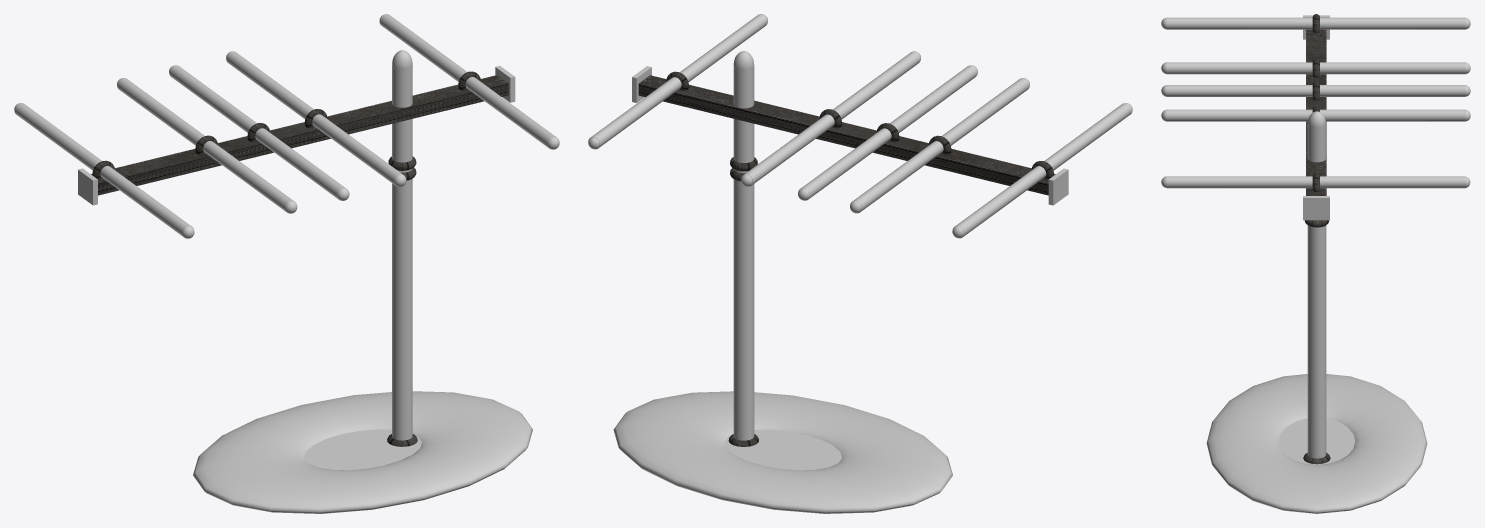
Rendered from antenna fbx.fbx.
3 views of the same model, side by side, from view 1: azimuth 30°, elevation 25°; view 2: azimuth 150°, elevation 25°; view 3: azimuth 270°, elevation 25° (orthographic). The views are drawn at different scales.
Visible parts, largest first — view 1: pTorus9, pCube1, pCylinder1, pCylinder7, pCylinder2, pCylinder3, pCylinder4, pCylinder5, pCylinder6; view 2: pTorus9, pCylinder1, pCube1, pCylinder7, pCylinder2, pCylinder3, pCylinder4, pCylinder5, pCylinder6, pCube3; view 3: pTorus9, pCylinder1, pCylinder2, pCylinder5, pCylinder6, pCylinder3, pCylinder4, pCylinder7, pCube1, pCube2.
Boxes of the visible parts, box(x1,y1,x2,y2) form: pTorus9: box(193, 391, 532, 513); pCube1: box(91, 75, 508, 195); pCylinder1: box(392, 65, 412, 440); pCylinder7: box(304, 429, 421, 470); pCylinder2: box(379, 14, 556, 148); pCylinder3: box(226, 51, 402, 185); pCylinder4: box(169, 65, 347, 199); pCylinder5: box(117, 78, 294, 211); pCylinder6: box(14, 103, 192, 236); pTorus9: box(613, 391, 952, 513); pCylinder1: box(733, 66, 754, 440); pCube1: box(638, 75, 1055, 195); pCylinder7: box(724, 429, 841, 470); pCylinder2: box(588, 14, 767, 148); pCylinder3: box(742, 51, 920, 186); pCylinder4: box(799, 65, 977, 200); pCylinder5: box(850, 78, 1029, 212); pCylinder6: box(954, 103, 1131, 237); pCube3: box(1048, 168, 1068, 205); pTorus9: box(1206, 374, 1427, 513); pCylinder1: box(1307, 125, 1326, 458); pCylinder2: box(1167, 176, 1465, 188); pCylinder5: box(1167, 62, 1465, 74); pCylinder6: box(1167, 17, 1465, 29); pCylinder3: box(1167, 109, 1465, 121); pCylinder4: box(1167, 85, 1465, 96); pCylinder7: box(1278, 418, 1355, 464); pCube1: box(1306, 29, 1326, 195); pCube2: box(1303, 196, 1329, 220).
Size of the model in its own units: 9.86 by 8.66 by 6.8.
